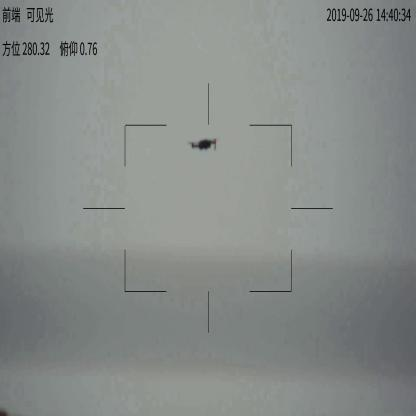uav: (185, 136, 222, 154)
